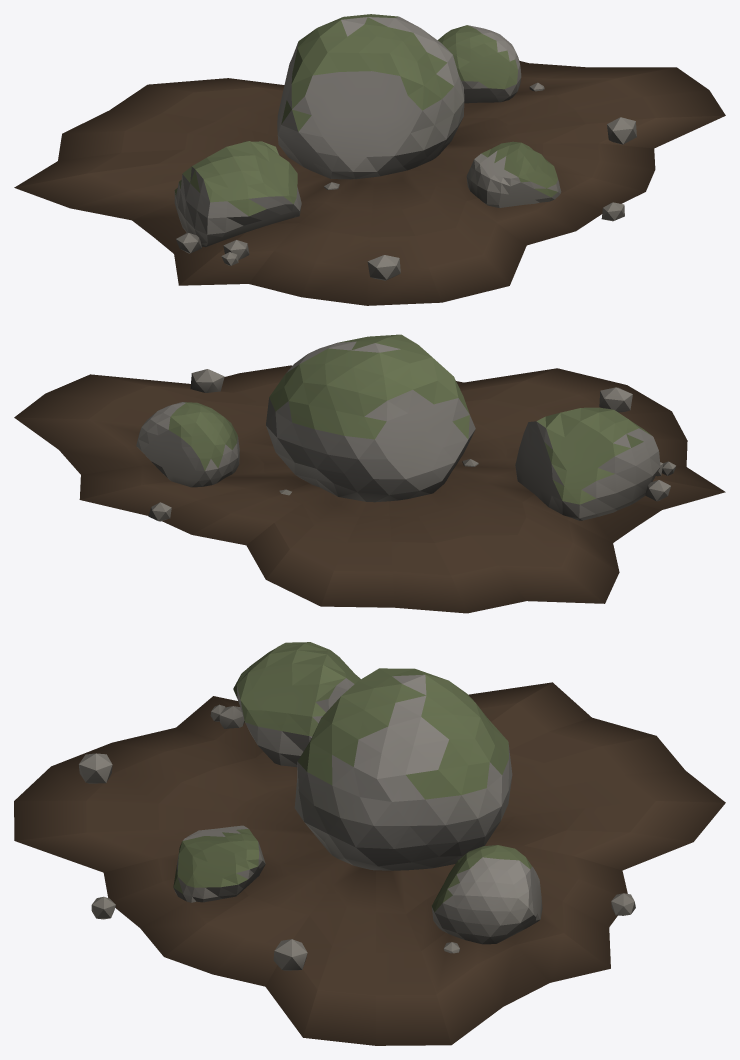
File: rockfall_b.glb
3 renders of one model, top to bottom at view 1: azimuth 30°, elevation 25°; view 2: azimuth 150°, elevation 25°; view 3: azimuth 270°, elevation 25°, orthographic. The views are drawn at different scales.
Visible parts, largest first — view 1: rockfall_b_litter_LOD0, rockfall_b_boulder_0_LOD0, rockfall_b_boulder_1_LOD0, rockfall_b_boulder_3_LOD0, rockfall_b_boulder_2_LOD0; view 2: rockfall_b_litter_LOD0, rockfall_b_boulder_0_LOD0, rockfall_b_boulder_1_LOD0, rockfall_b_boulder_2_LOD0; view 3: rockfall_b_litter_LOD0, rockfall_b_boulder_0_LOD0, rockfall_b_boulder_1_LOD0, rockfall_b_boulder_2_LOD0, rockfall_b_boulder_3_LOD0.
Boxes of the visible parts, bbox=[...] form: rockfall_b_litter_LOD0: bbox=[14, 60, 725, 305]; rockfall_b_boulder_0_LOD0: bbox=[277, 14, 464, 179]; rockfall_b_boulder_1_LOD0: bbox=[174, 141, 301, 247]; rockfall_b_boulder_3_LOD0: bbox=[466, 141, 561, 207]; rockfall_b_boulder_2_LOD0: bbox=[437, 25, 521, 103]; rockfall_b_litter_LOD0: bbox=[14, 365, 725, 613]; rockfall_b_boulder_0_LOD0: bbox=[266, 334, 475, 502]; rockfall_b_boulder_1_LOD0: bbox=[515, 407, 660, 520]; rockfall_b_boulder_2_LOD0: bbox=[136, 402, 239, 487]; rockfall_b_litter_LOD0: bbox=[14, 682, 725, 1045]; rockfall_b_boulder_0_LOD0: bbox=[294, 668, 512, 870]; rockfall_b_boulder_1_LOD0: bbox=[233, 642, 360, 767]; rockfall_b_boulder_2_LOD0: bbox=[431, 845, 542, 944]; rockfall_b_boulder_3_LOD0: bbox=[173, 825, 265, 902].
Size of what is drawn, in the model's own units: 3.27 by 0.7627 by 2.7.
